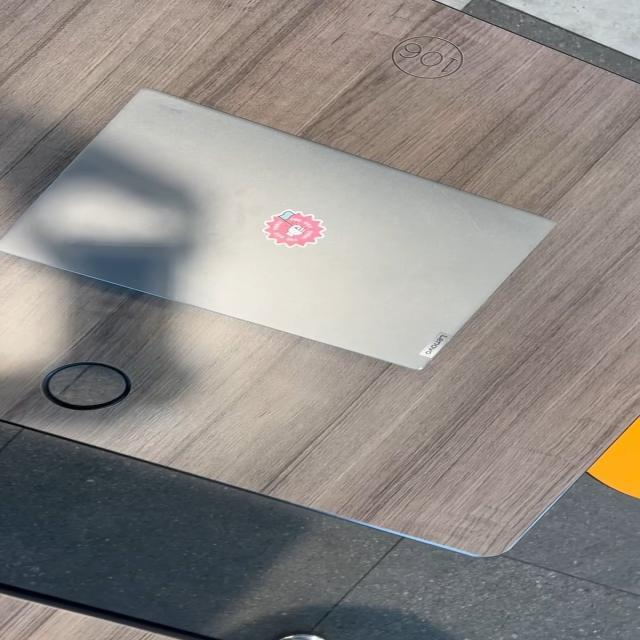laptop: (0, 86, 556, 372)
